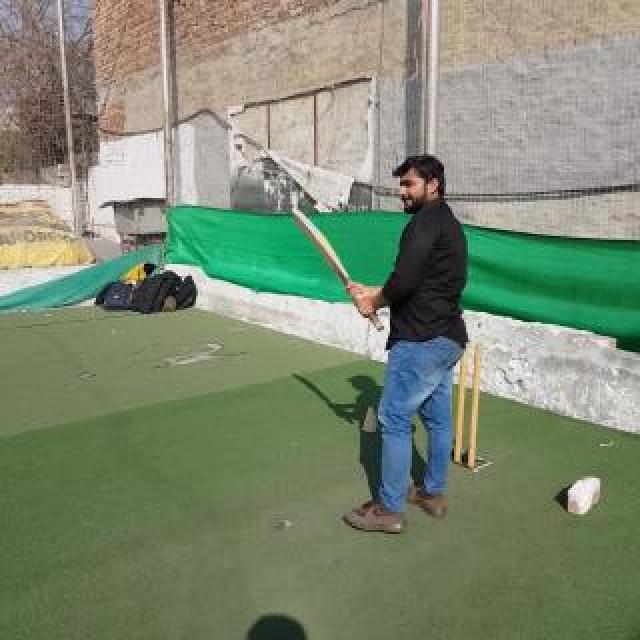bat: (292, 208, 384, 332)
